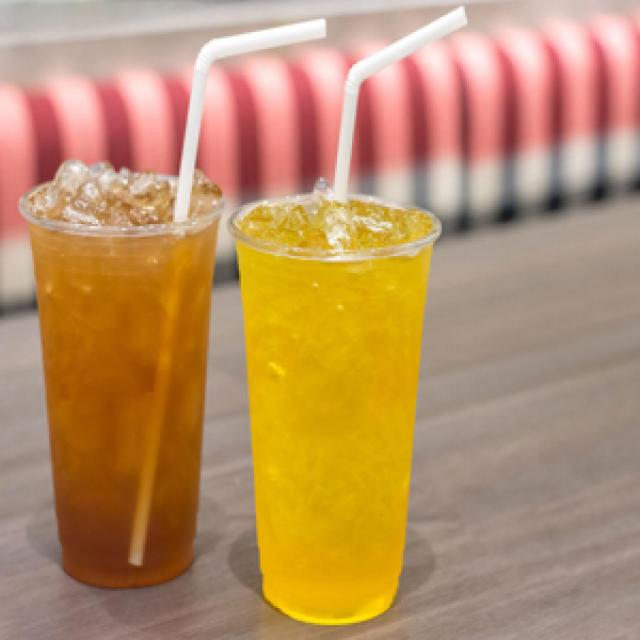plastic cup: (226, 188, 448, 629), (15, 158, 235, 591)
